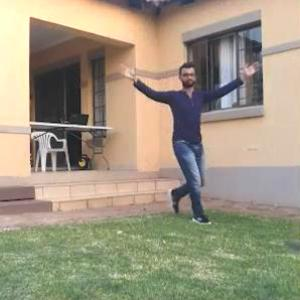takeoff: (112, 65, 255, 226)
